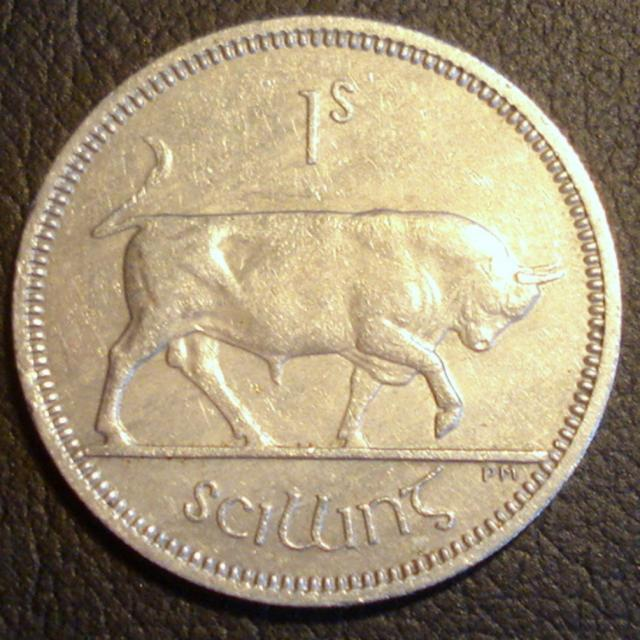Coin: (11, 13, 624, 609)
